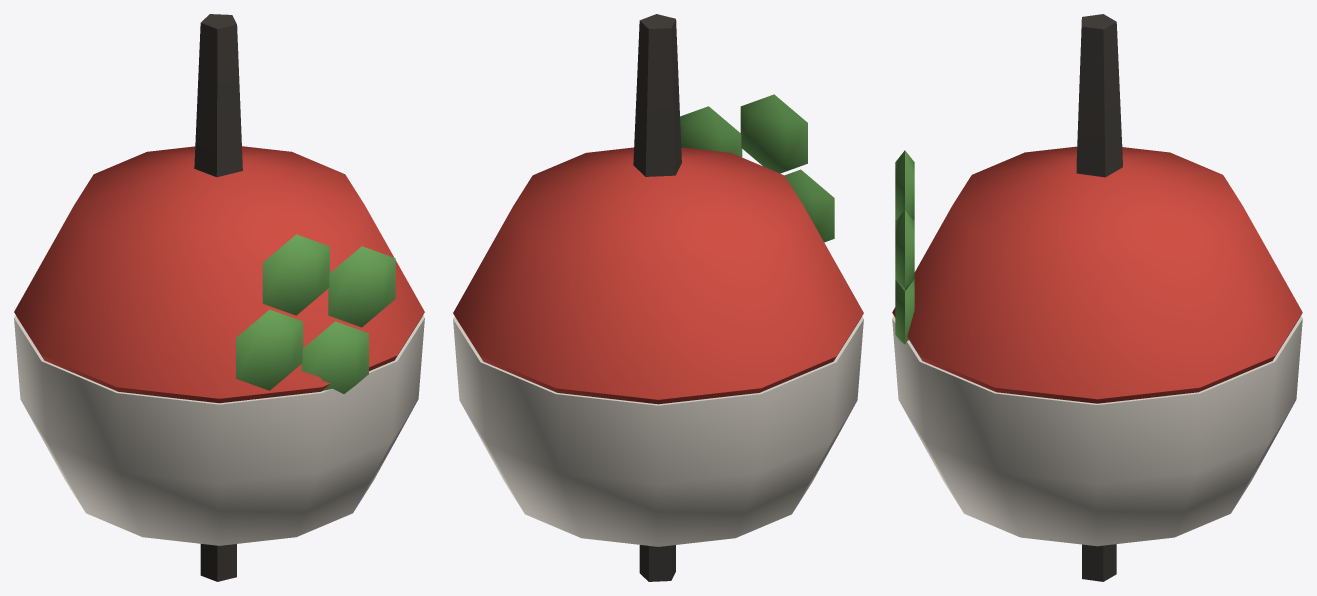
The model's file is bobber-lucky.glb.
3 views of the same model, side by side, from view 1: azimuth 30°, elevation 25°; view 2: azimuth 150°, elevation 25°; view 3: azimuth 270°, elevation 25° (orthographic).
Parts seen in each view (by area): view 1: bobber-lucky; view 2: bobber-lucky; view 3: bobber-lucky.
Part boxes in pixels (left/top/right/bottom): bobber-lucky: left=14, top=14, right=424, bottom=581; bobber-lucky: left=453, top=14, right=863, bottom=581; bobber-lucky: left=892, top=14, right=1302, bottom=581.
Bounding box in the file's own units: 0.064 × 0.095 × 0.064.
